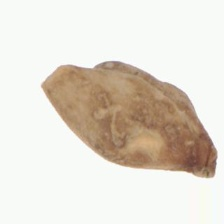L1: (38, 59, 125, 91), (189, 144, 219, 178)
L2: (40, 60, 218, 179)
